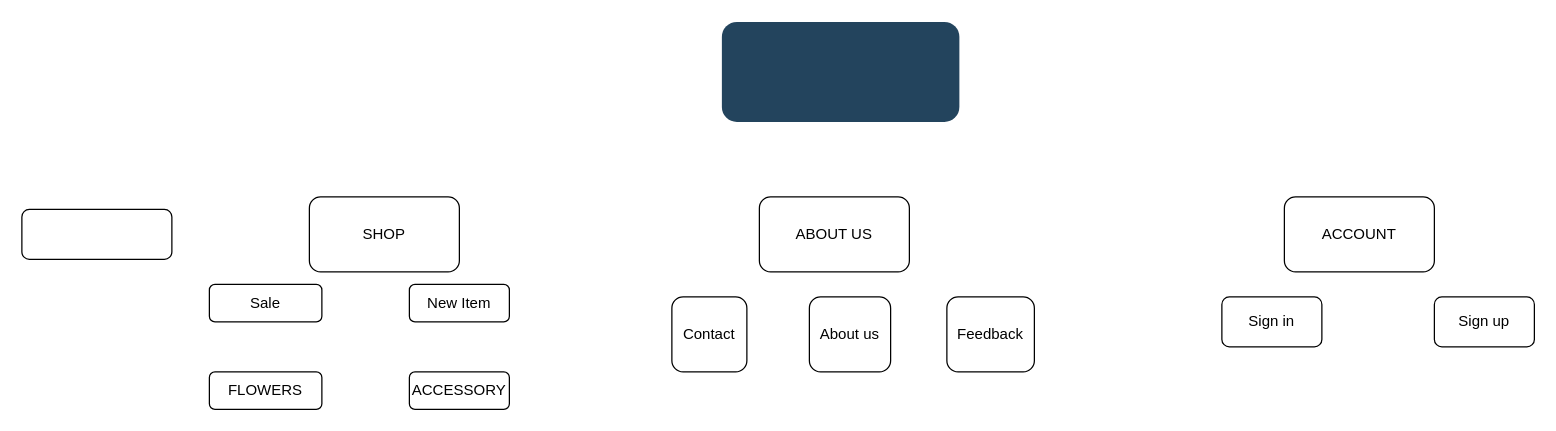
Some shapes in this 1556 by 431 pixel diagram are drawn without their labels. Each missing label, with the centre of its shape:
Header: the point at 840,71
HOME: the point at 96,233
